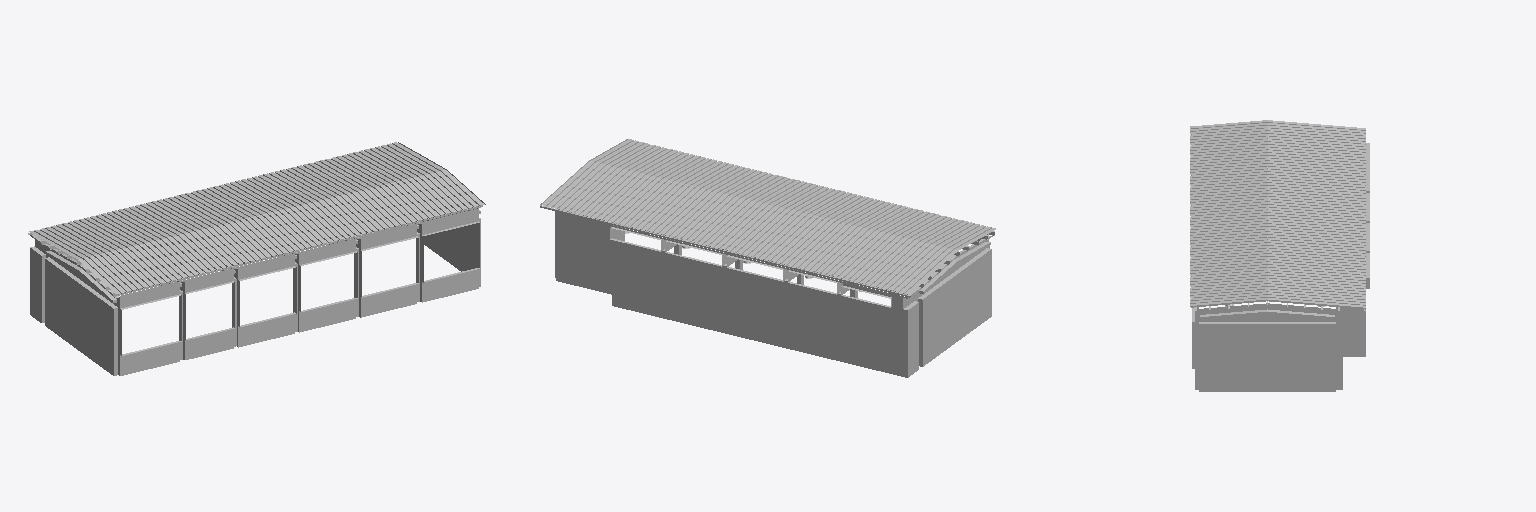
3 renders of one model, left to right at view 1: azimuth 30°, elevation 25°; view 2: azimuth 150°, elevation 25°; view 3: azimuth 270°, elevation 25°, orthographic.
Parts seen in each view (by area): view 1: roff, con, iron; view 2: con, roff, iron; view 3: roff, con.
Part boxes in pixels (x1,y1,x2,y2): roff: (29,142,485,293); con: (30,208,480,375); iron: (28,205,482,296); con: (555,209,992,377); roff: (540,139,995,294); iron: (540,206,994,297); roff: (1190,120,1365,309); con: (1192,143,1369,391).
Bounding box in the file's own units: 25 × 5.94 × 10.49.